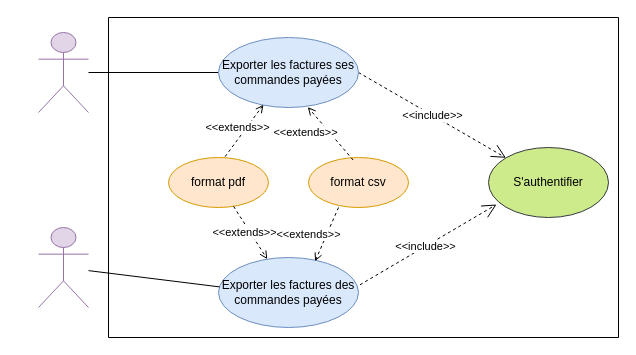
This 636x355 diagram has some shape labels left out. The shapes that lost their labels are listed below. From the top down, each one's box as (x1, y1, x2, y2) in pixels, then its label:
(38, 32, 88, 112): Admin
(38, 226, 88, 308): Profil d'entreprise
